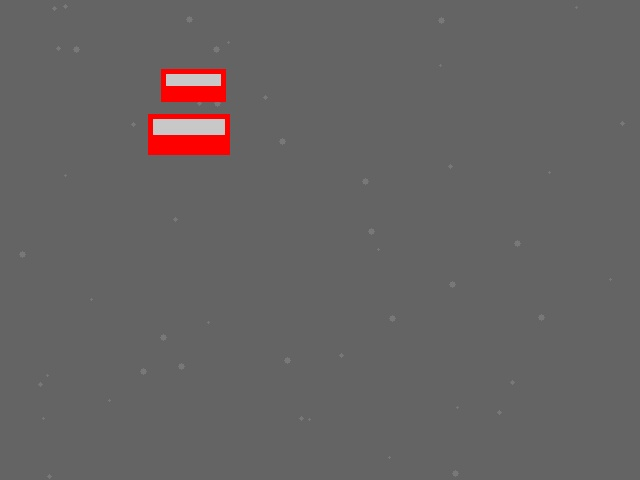car: (148, 114, 229, 154), (161, 69, 225, 101)
